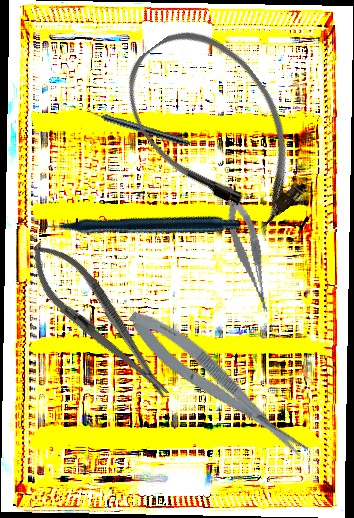Cannula: (104, 8, 332, 251)
Handpiece: (29, 121, 243, 322), (84, 106, 193, 148)
Micro Scissor: (120, 299, 315, 471), (222, 191, 274, 317)
Needle Holder: (16, 229, 184, 413)
